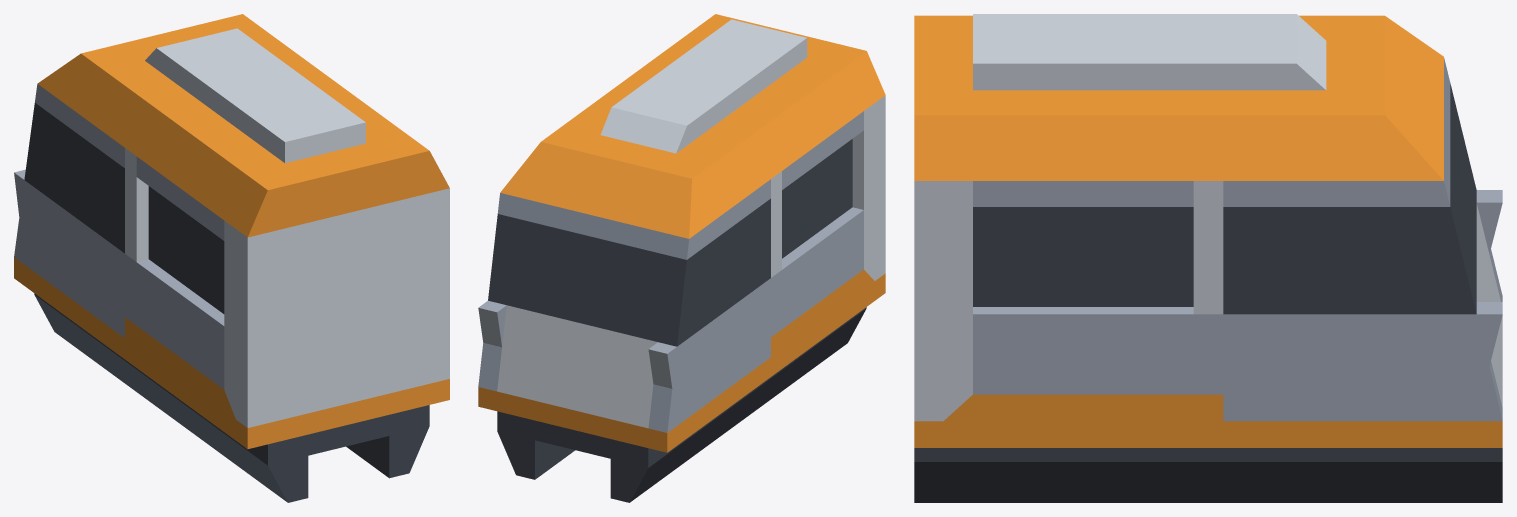
File: monorail_trainEnd.glb
3 renders of one model, left to right at view 1: azimuth 30°, elevation 25°; view 2: azimuth 150°, elevation 25°; view 3: azimuth 270°, elevation 25°, orthographic. The views are drawn at different scales.
Visible parts, largest first — view 1: monorail_trainEnd; view 2: monorail_trainEnd; view 3: monorail_trainEnd.
Boxes of the visible parts, box(x1,y1,x2,y2) form: monorail_trainEnd: box(14, 14, 449, 502); monorail_trainEnd: box(478, 14, 885, 502); monorail_trainEnd: box(914, 14, 1502, 502).
Bounding box in the file's own units: 0.5 × 0.8 × 1.
